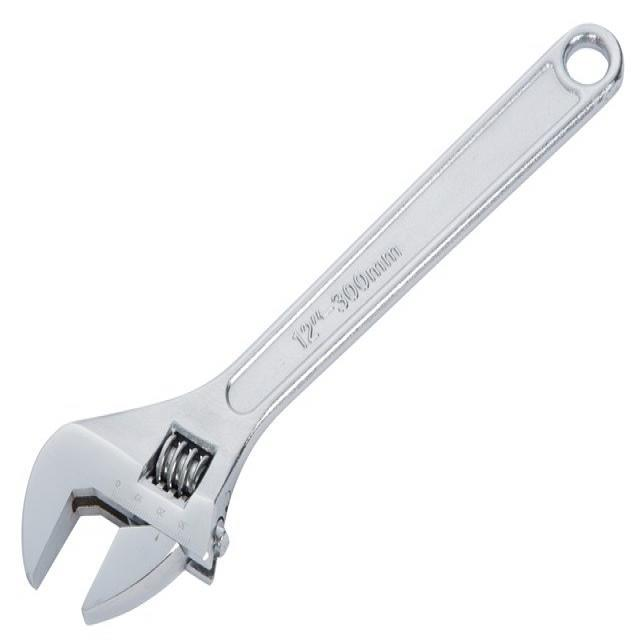wrench: (17, 19, 626, 631)
